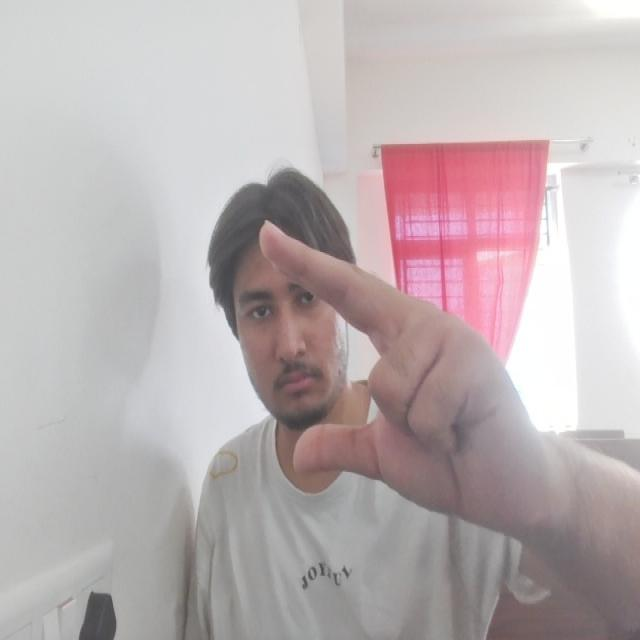no: (256, 216, 542, 540)
